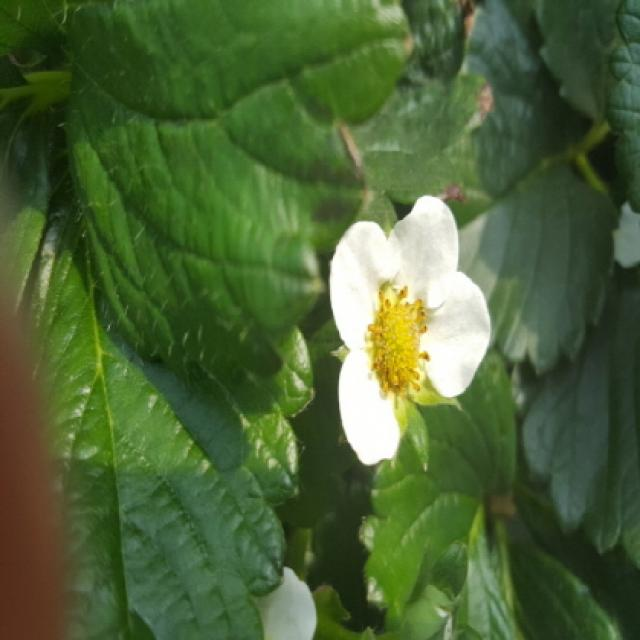Blossom Blight: (363, 279, 434, 402)
